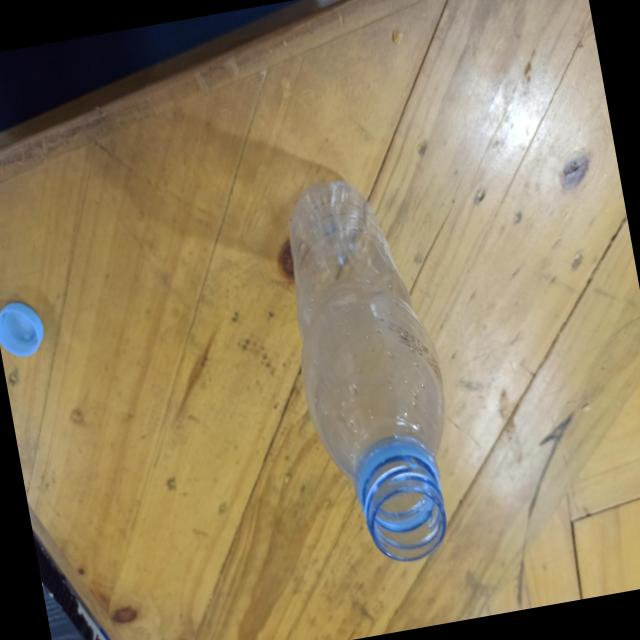BotolPlastik: (267, 167, 473, 576)
